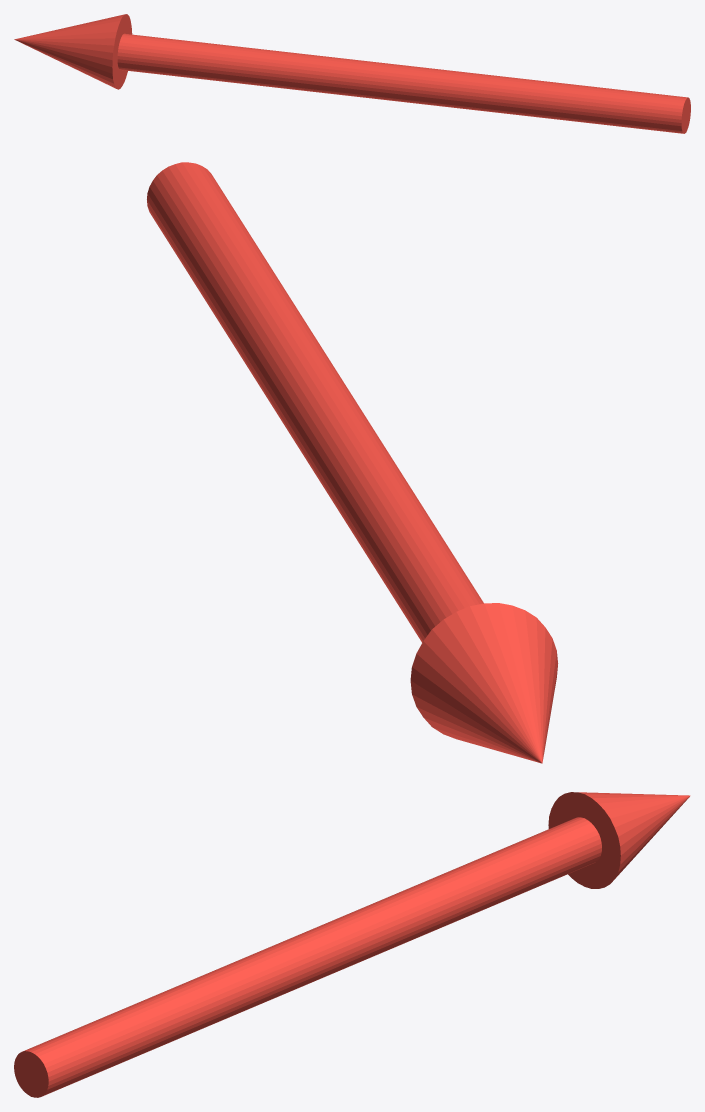
The model's file is Axis 1 B_CH4.gltf.
3 views of the same model, one above another, from view 1: azimuth 30°, elevation 25°; view 2: azimuth 150°, elevation 25°; view 3: azimuth 270°, elevation 25° (orthographic). The views are drawn at different scales.
Parts seen in each view (by area): view 1: Eje_C2b_Eje_Cono.007; view 2: Eje_C2b_Eje_Cono.007; view 3: Eje_C2b_Eje_Cono.007.
Boxes of the visible parts, left/top/right/bottom form: Eje_C2b_Eje_Cono.007: left=14, top=14, right=690, bottom=133; Eje_C2b_Eje_Cono.007: left=147, top=162, right=558, bottom=763; Eje_C2b_Eje_Cono.007: left=14, top=792, right=690, bottom=1097.
Bounding box in the file's own units: 2.06 × 0.3104 × 2.06.
